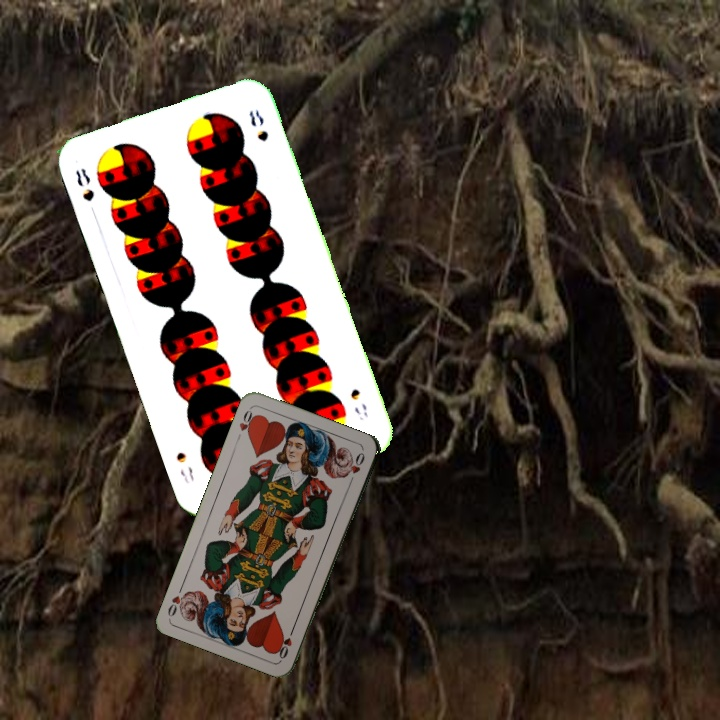HO: (233, 404, 259, 443), (275, 623, 297, 662)
S8: (71, 163, 97, 204), (346, 384, 370, 423)
